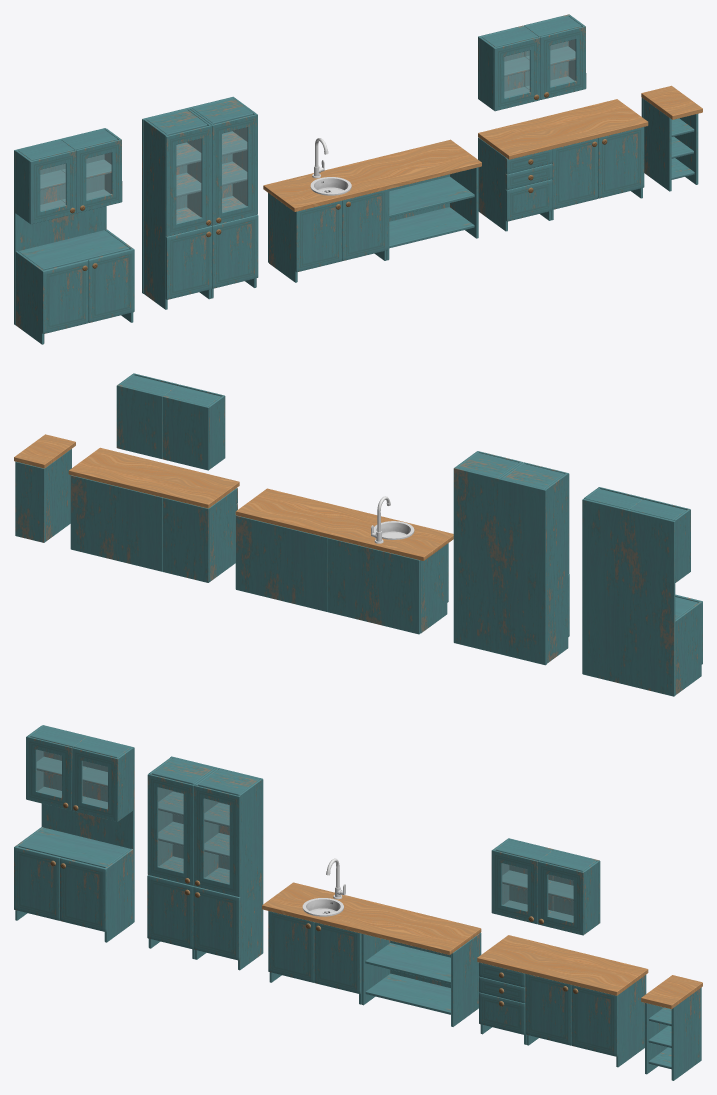
The model's file is kitchen cabinet.glb.
The picture shows the model from 3 angles, top to bottom: view 1: azimuth 30°, elevation 25°; view 2: azimuth 150°, elevation 25°; view 3: azimuth 330°, elevation 25°; orthographic projection.
Parts seen in each view (by area): view 1: Cabinet_FrontGlass_B.005, CabinetTable_A.004, Cabinet_FrontA.003, Cabinet_FrontA.004, Cabinet_FrontGlass_A.005, Cabinet_FrontGlass_A.006, Cabinet_FrontA.006, Cabinet_FrontA.005, CabinetTable_B.002, Cabinet_Side_A.003, Cabinet_Back_A.006, Cabinet_Shelf_A.004 (+24 smaller); view 2: Cabinet_Back_A.005, Cabinet_Back_A.006, Cabinet_Back_B.003, Cabinet_Back_B.004, Cabinet_Back_B.005, Cabinet_Back_D.003, CabinetTable_A.004, CabinetTable_B.002, Cabinet_Side_A.003, Cabinet_Back_C.003, Cabinet_Back_E.003, Cabinet_Side_B.005 (+11 smaller); view 3: Cabinet_FrontGlass_B.005, CabinetTable_A.004, Cabinet_FrontA.003, Cabinet_FrontGlass_A.006, Cabinet_FrontA.004, Cabinet_FrontGlass_A.005, Cabinet_FrontA.005, Cabinet_FrontA.006, CabinetTable_B.002, Cabinet_Side_A.004, Cabinet_Back_A.006, Cabinet_Shelf_A.004 (+24 smaller).
Boxes of the visible parts, x1,y1,x2,y2 form: Cabinet_FrontGlass_B.005: (165,114,257,236); CabinetTable_A.004: (263,139,481,211); Cabinet_FrontA.003: (165,214,258,299); Cabinet_FrontA.004: (42,248,134,333); Cabinet_FrontGlass_A.005: (30,139,122,224); Cabinet_FrontGlass_A.006: (494,26,586,111); Cabinet_FrontA.006: (295,189,387,272); Cabinet_FrontA.005: (552,127,644,209); CabinetTable_B.002: (478,99,648,159); Cabinet_Side_A.003: (144,119,167,309); Cabinet_Back_A.006: (14,128,106,325); Cabinet_Shelf_A.004: (18,230,129,270); Cabinet_Back_A.005: (453,467,546,665); Cabinet_Back_A.006: (582,498,675,696); Cabinet_Back_B.003: (327,538,420,634); Cabinet_Back_B.004: (235,515,327,611); Cabinet_Back_B.005: (70,475,162,571); Cabinet_Back_D.003: (116,384,209,470); CabinetTable_A.004: (235,488,453,560); CabinetTable_B.002: (68,447,239,508); Cabinet_Side_A.003: (545,473,568,663); Cabinet_Back_C.003: (162,497,209,582); Cabinet_Back_E.003: (15,461,45,542); Cabinet_Side_B.005: (675,601,701,695); Cabinet_FrontGlass_B.005: (147,774,240,897); CabinetTable_A.004: (262,882,481,954); Cabinet_FrontA.003: (147,875,240,960); Cabinet_FrontGlass_A.006: (491,850,584,935); Cabinet_FrontA.004: (14,846,106,931); Cabinet_FrontGlass_A.005: (26,736,118,821); Cabinet_FrontA.005: (525,973,618,1056); Cabinet_FrontA.006: (268,911,361,993); CabinetTable_B.002: (477,935,648,995); Cabinet_Side_A.004: (238,779,261,970); Cabinet_Back_A.006: (41,725,134,922); Cabinet_Shelf_A.004: (19,827,130,867).
Size of the model in its own units: 7.89 by 2 by 0.65.
Materials: 3 (2 with a texture image).
